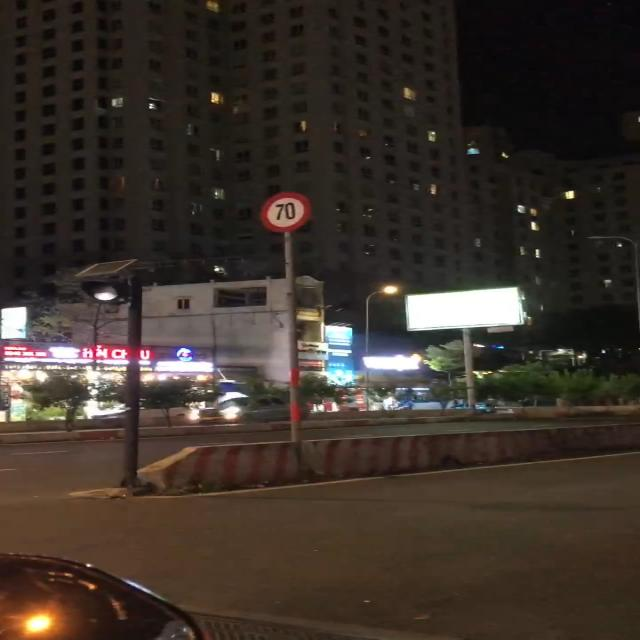Bien bao toc do toi da cho phep: (254, 190, 316, 234)
